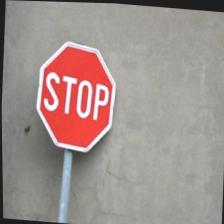Stop: (30, 37, 119, 153)
